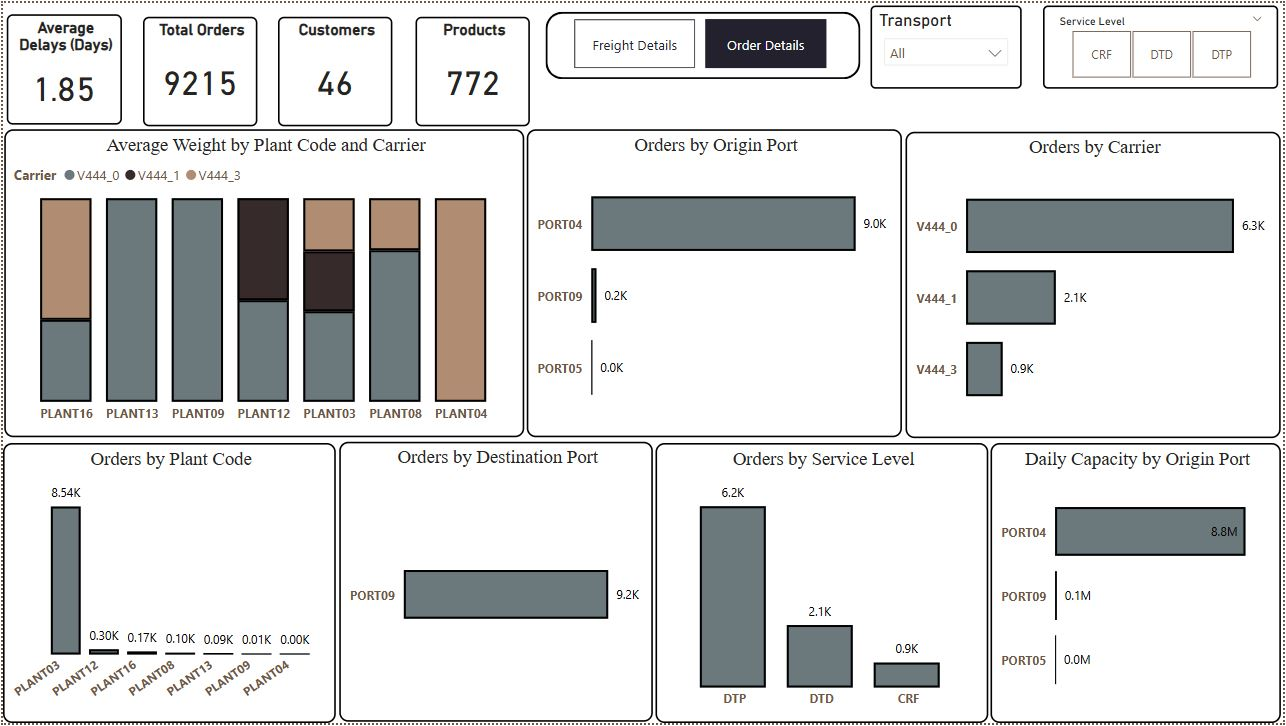

The page's visual inventory and layout, read from the dashboard file:
{"tool":"powerbi","page":{"name":"Order Details","canvas":[1280,720],"ordinal":1},"visuals":[{"type":"barChart","fields":{"Category":["OrderList.Origin Port"],"Y":["CountNonNull(OrderList.Order ID)"]},"box":[523.6,126.7,375.2,307.6],"z":0},{"type":"barChart","fields":{"Y":["CountNonNull(OrderList.Order ID)"],"Category":["OrderList.Destination Port"]},"box":[336.6,439.1,313.7,279.9],"z":1000},{"type":"columnChart","fields":{"Y":["CountNonNull(OrderList.Order ID)"],"Category":["OrderList.Plant Code"]},"box":[0,440.1,333,279.9],"z":2000},{"type":"columnChart","fields":{"Y":["CountNonNull(OrderList.Order ID)"],"Category":["OrderList.Service Level"]},"box":[652.7,440.1,333,279.9],"z":3000},{"type":"clusteredBarChart","fields":{"Y":["CountNonNull(OrderList.Order ID)"],"Category":["OrderList.Carrier"]},"box":[902.4,129.1,375.2,306.4],"z":4000},{"type":"barChart","fields":{"Y":["Sum(OrderList.Daily capacity)"],"Category":["OrderList.Origin Port"]},"box":[988.1,440.4,290.8,279.9],"z":5000},{"type":"card","title":"Average Delays (Days)","fields":{"Values":["Avg(OrderList.Ship ahead day count)"]},"box":[3.6,10.9,115,110],"z":6000},{"type":"hundredPercentStackedColumnChart","title":"Average Weight by Plant Code and Carrier","fields":{"Category":["OrderList.Plant Code"],"Y":["Avg(OrderList.Weight)"],"Series":["OrderList.Carrier"]},"box":[1.2,126.7,520,307.6],"z":7000},{"type":"card","title":"Total Orders","fields":{"Values":["CountNonNull(OrderList.Order ID)"]},"box":[139.9,13.3,114.6,109.8],"z":8000},{"type":"slicer","title":"Transport","fields":{"Values":["OrderList.TPT"]},"box":[867.4,2.4,150.8,83.2],"z":9000},{"type":"slicer","fields":{"Values":["OrderList.Service Level"]},"box":[1040,2.4,235.3,83.2],"z":10000},{"type":"card","title":"Customers","fields":{"Values":["Count(OrderList.Customers)"]},"box":[275.1,13.3,114.6,109.8],"z":11000},{"type":"card","title":"Products","fields":{"Values":["Count(OrderList.Product ID)"]},"box":[412.6,13.3,114.6,109.8],"z":12000},{"type":"shape","box":[542.9,8.4,314.9,67.6],"z":13000},{"type":"pageNavigator","box":[571.9,15.7,252.1,49.5],"z":14000}]}

Visuals, with their boxes in screenshot pixels (x1, y1, x2, y2), scaled from the page's 1280x720 canvas onto the 1286x726 screenshot:
barChart - OrderList.Origin Port x CountNonNull(OrderList.Order ID): 526:128:903:438
barChart - CountNonNull(OrderList.Order ID) x OrderList.Destination Port: 338:443:653:725
columnChart - CountNonNull(OrderList.Order ID) x OrderList.Plant Code: 0:444:335:725
columnChart - CountNonNull(OrderList.Order ID) x OrderList.Service Level: 656:444:990:725
clusteredBarChart - CountNonNull(OrderList.Order ID) x OrderList.Carrier: 907:130:1284:439
barChart - Sum(OrderList.Daily capacity) x OrderList.Origin Port: 993:444:1285:725
"Average Delays (Days)" card: 4:11:119:122
"Average Weight by Plant Code and Carrier" hundredPercentStackedColumnChart: 1:128:524:438
"Total Orders" card: 141:13:256:124
"Transport" slicer: 871:2:1023:86
slicer - OrderList.Service Level: 1045:2:1281:86
"Customers" card: 276:13:392:124
"Products" card: 415:13:530:124
shape: 545:8:862:77
pageNavigator: 575:16:828:66
